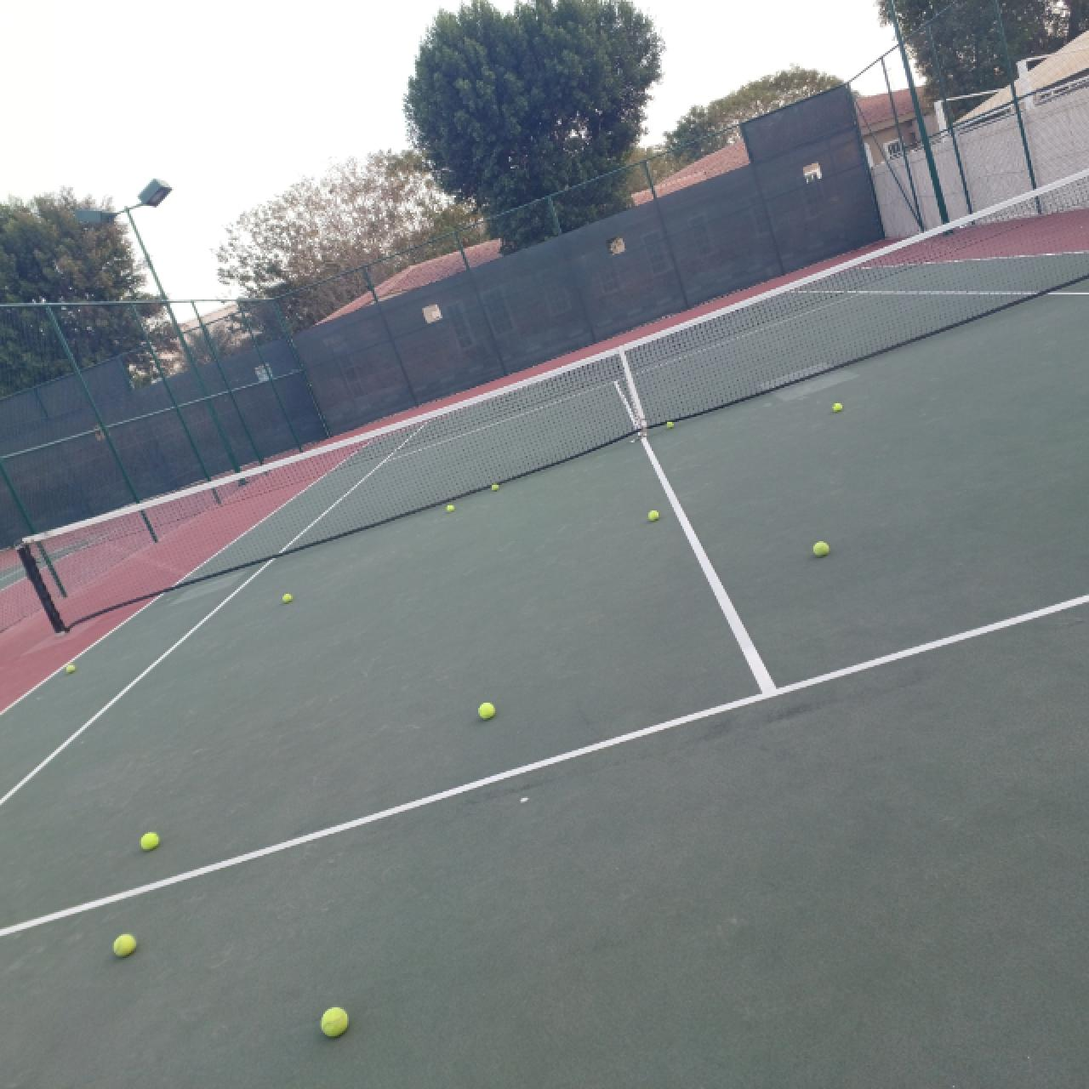tennis-ball: (321, 1006, 350, 1039), (113, 933, 137, 959), (140, 831, 161, 853), (812, 540, 831, 559), (478, 701, 496, 721), (282, 593, 295, 606), (647, 510, 660, 523), (831, 402, 843, 414), (489, 482, 500, 493), (445, 504, 455, 515), (664, 420, 675, 430), (65, 665, 76, 674)
